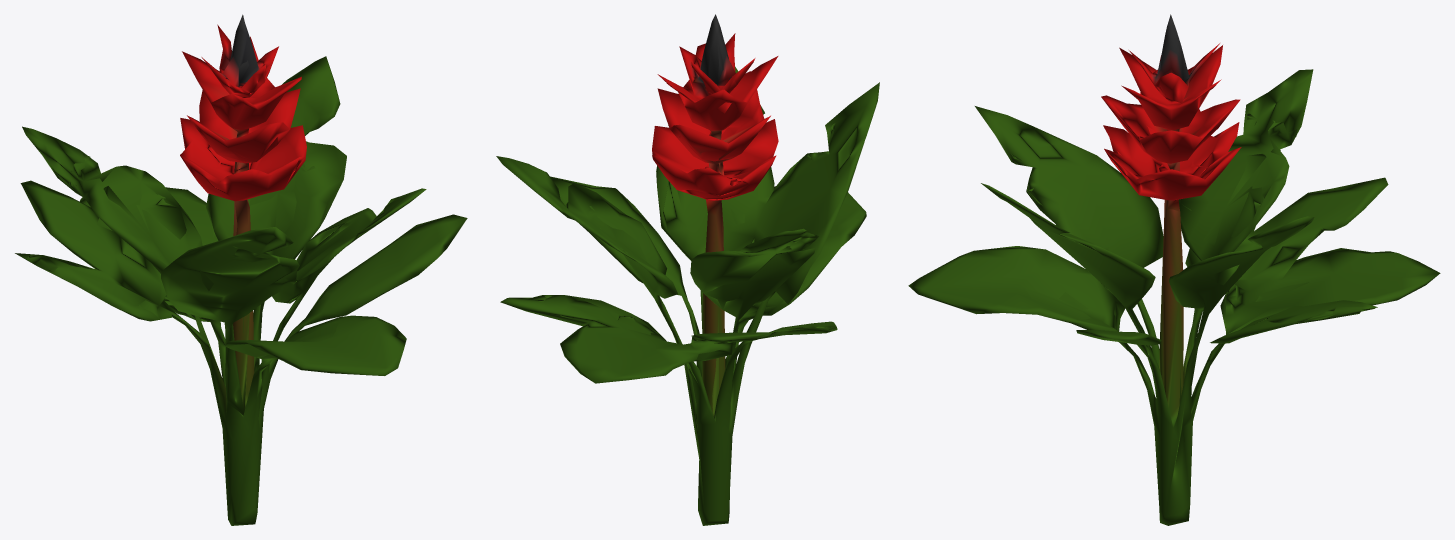
Rendered from gen3d-heliconia-lod0.glb.
3 renders of one model, left to right at view 1: azimuth 30°, elevation 25°; view 2: azimuth 150°, elevation 25°; view 3: azimuth 270°, elevation 25°, orthographic.
Parts seen in each view (by area): view 1: part_0; view 2: part_0; view 3: part_0.
Part boxes in pixels (x1=…): part_0: x1=15, y1=14, x2=467, y2=525; part_0: x1=496, y1=14, x2=879, y2=525; part_0: x1=908, y1=14, x2=1440, y2=525.
Size of the model in its own units: 0.7634 by 1 by 0.9514.
